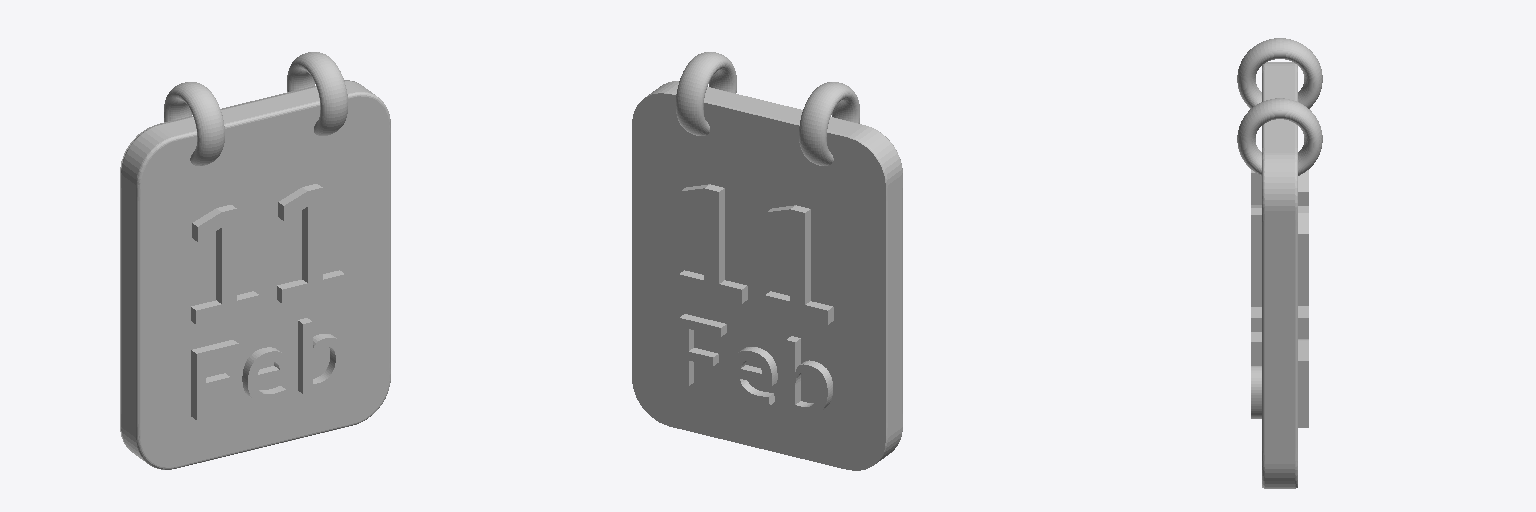
File: calendar.obj
3 renders of one model, left to right at view 1: azimuth 30°, elevation 25°; view 2: azimuth 150°, elevation 25°; view 3: azimuth 270°, elevation 25°, orthographic.
Visible parts, largest first — view 1: calendar_(1); view 2: calendar_(1); view 3: calendar_(1).
Boxes of the visible parts, x1,y1,x2,y2 form: calendar_(1): [120, 52, 390, 469]; calendar_(1): [632, 52, 902, 470]; calendar_(1): [1237, 38, 1322, 488].
Size of the model in its own units: 40 by 55.82 by 11.64.